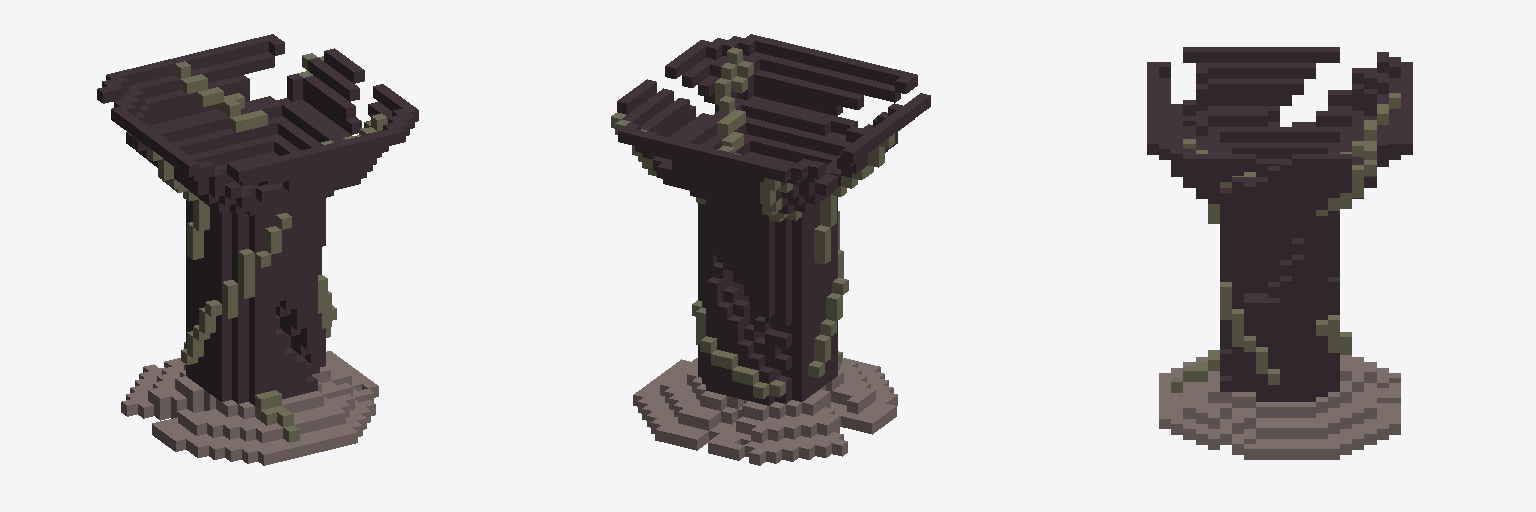
The picture shows the model from 3 angles: view 1: azimuth 30°, elevation 25°; view 2: azimuth 150°, elevation 25°; view 3: azimuth 270°, elevation 25°; orthographic projection.
Parts seen in each view (by area): view 1: object 1; view 2: object 1; view 3: object 1.
Boxes of the visible parts, x1,y1,x2,y2 form: object 1: [97, 34, 418, 465]; object 1: [611, 34, 930, 465]; object 1: [1147, 47, 1412, 459].
Bounding box in the file's own units: 2.2 × 2.8 × 2.2.
Materials: 1 (1 with a texture image).